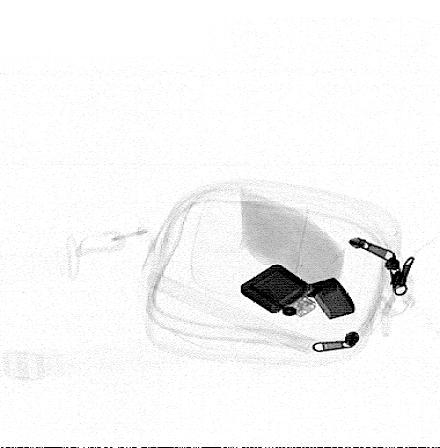Lighter: (239, 264, 356, 320)
